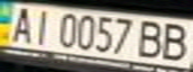0: (54, 10, 78, 48), (75, 12, 96, 52)
5: (93, 14, 115, 54)
7: (112, 16, 136, 55)
A: (6, 5, 36, 44)
B: (157, 20, 193, 62), (136, 18, 169, 60)
I: (27, 7, 57, 45)
